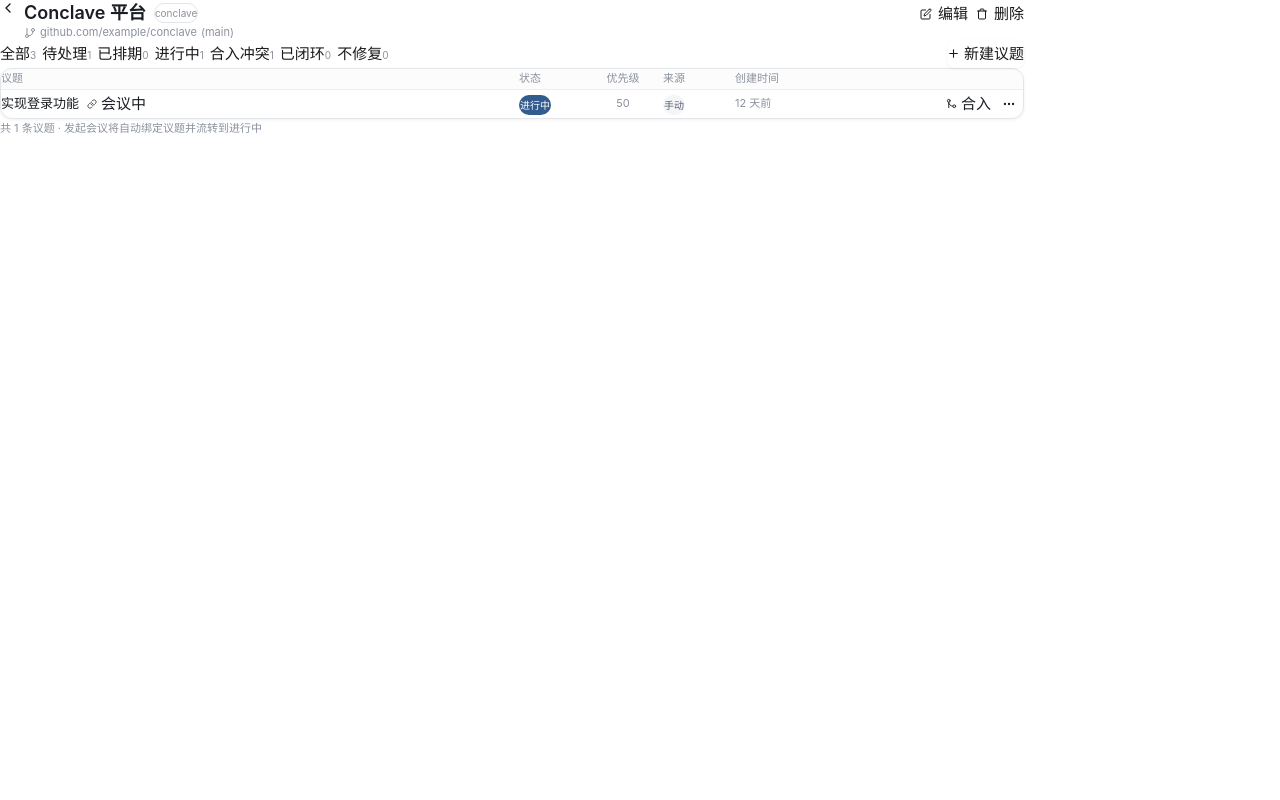
Test: ProjectDetailPage 合入入口（ADR-017 D11） › 预览有冲突 → 确认按钮禁用，仅展示冲突清单（非正向）
Expected: the text "实现登录功能" is shown, [1,94,79,113]
Click the button "合入" at (968, 104), box [946,90,991,118]
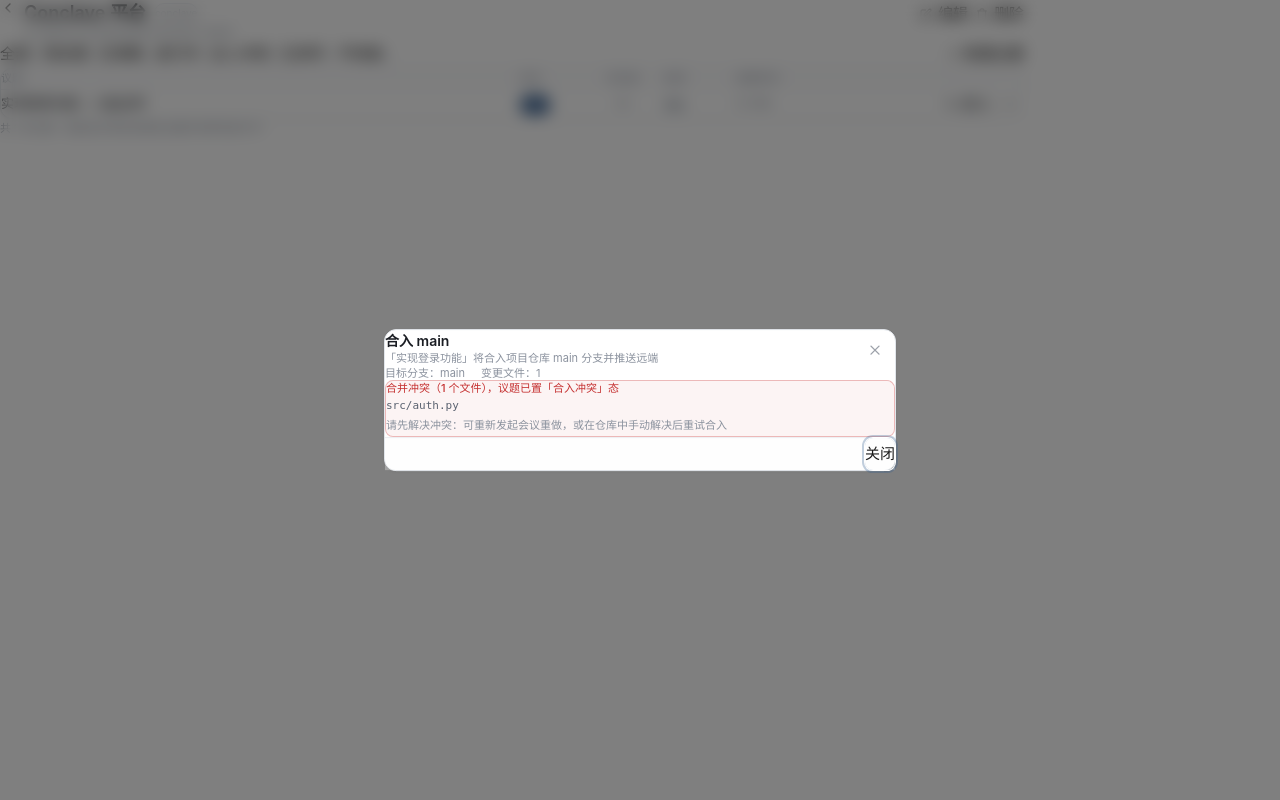
Expected: the text "合并冲突（1 个文件），议题已置「合入冲突」态" is shown, [386,381,619,395]
Expected: the text "src/auth.py" is shown, [386,399,459,412]
